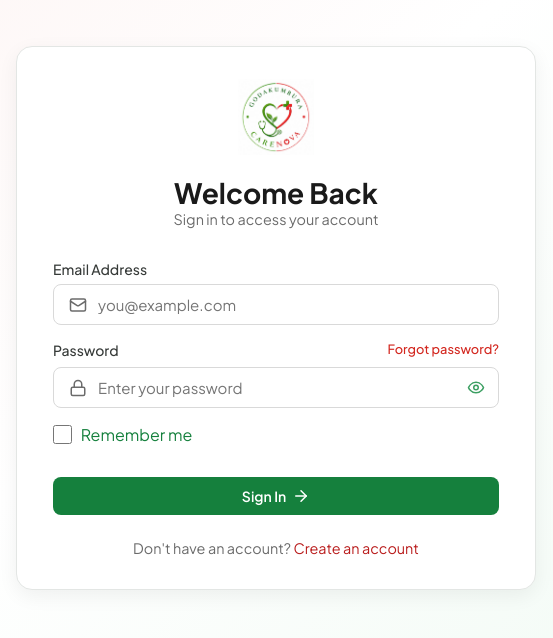
Test: LoginPage › shows inactive account message when backend indicates inactive account
In the field labelled "Email Address": (276, 305) [53,284,499,325], type "inactive@carenova.org"
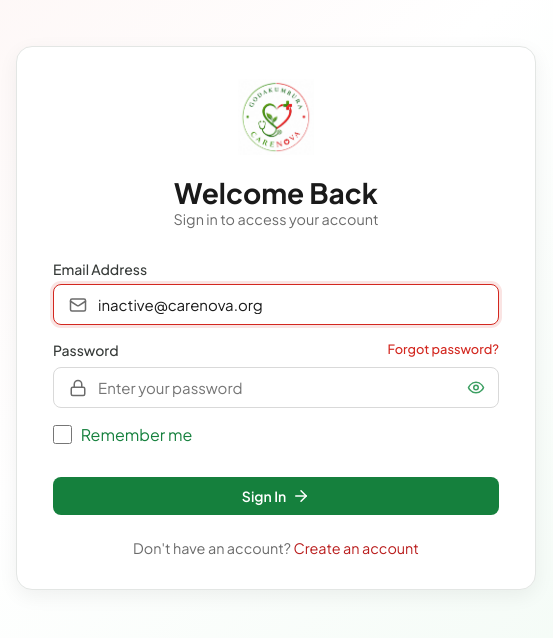
In the password field labelled "Password": (276, 388) [53,367,499,408], type "SecurePass123"
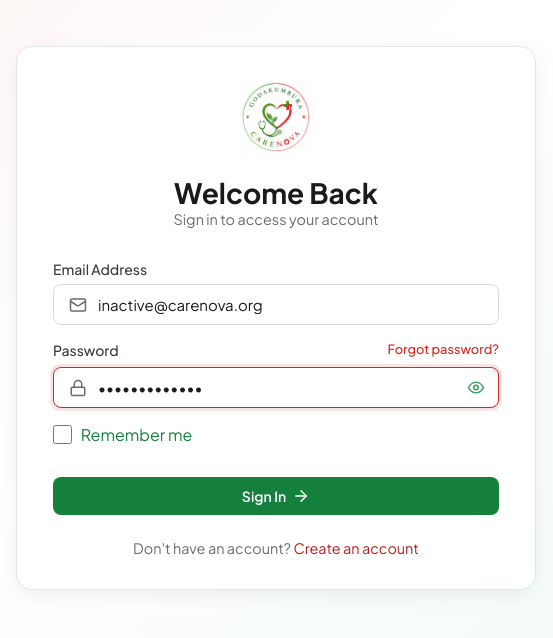
Click the button "Sign In": (276, 496) [53,477,499,515]
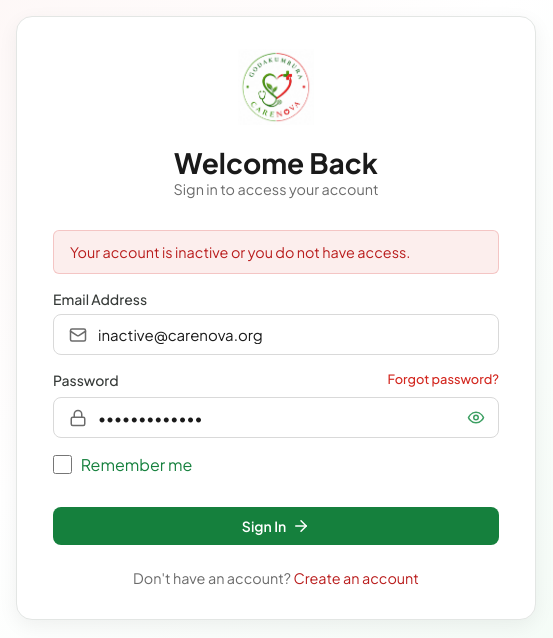
Result: the text "Your account is inactive or you do not have access." is shown at [53,230,499,274]
